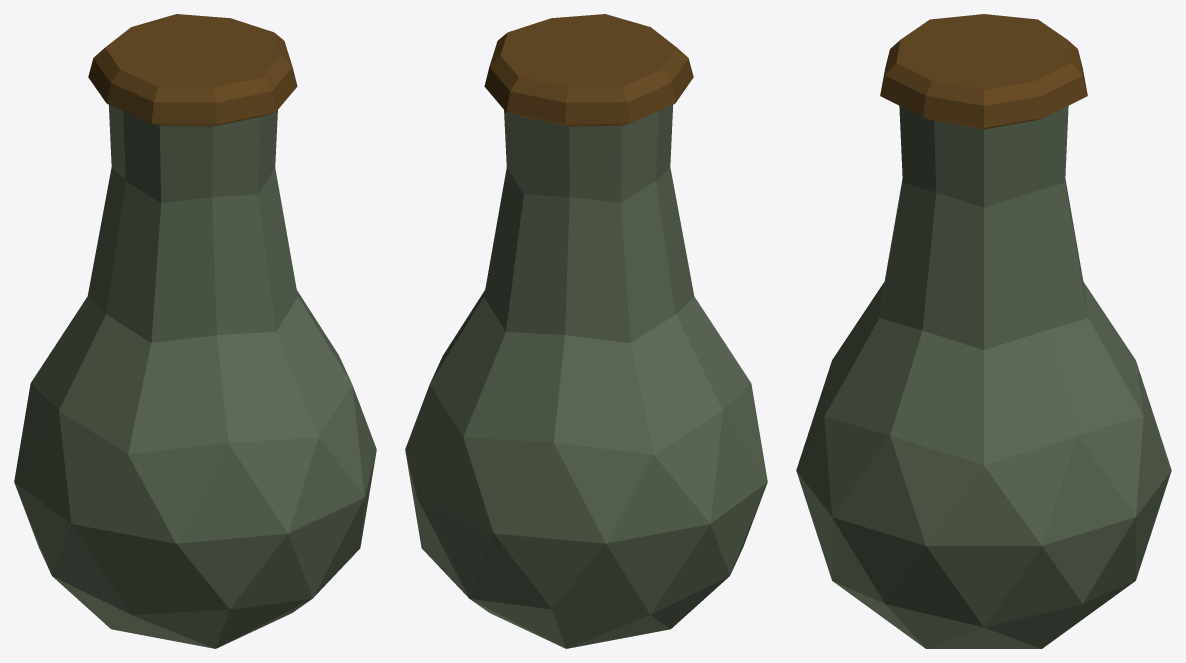
File: HealthFlask.fbx
3 views of the same model, side by side, from view 1: azimuth 30°, elevation 25°; view 2: azimuth 150°, elevation 25°; view 3: azimuth 270°, elevation 25° (orthographic).
Parts seen in each view (by area): view 1: Icosphere; view 2: Icosphere; view 3: Icosphere.
Part boxes in pixels (x1,y1,x2,y2): Icosphere: (14,14,376,648); Icosphere: (405,14,767,648); Icosphere: (796,14,1171,648).
Bounding box in the file's own units: 46.54 × 84.77 × 48.93.
